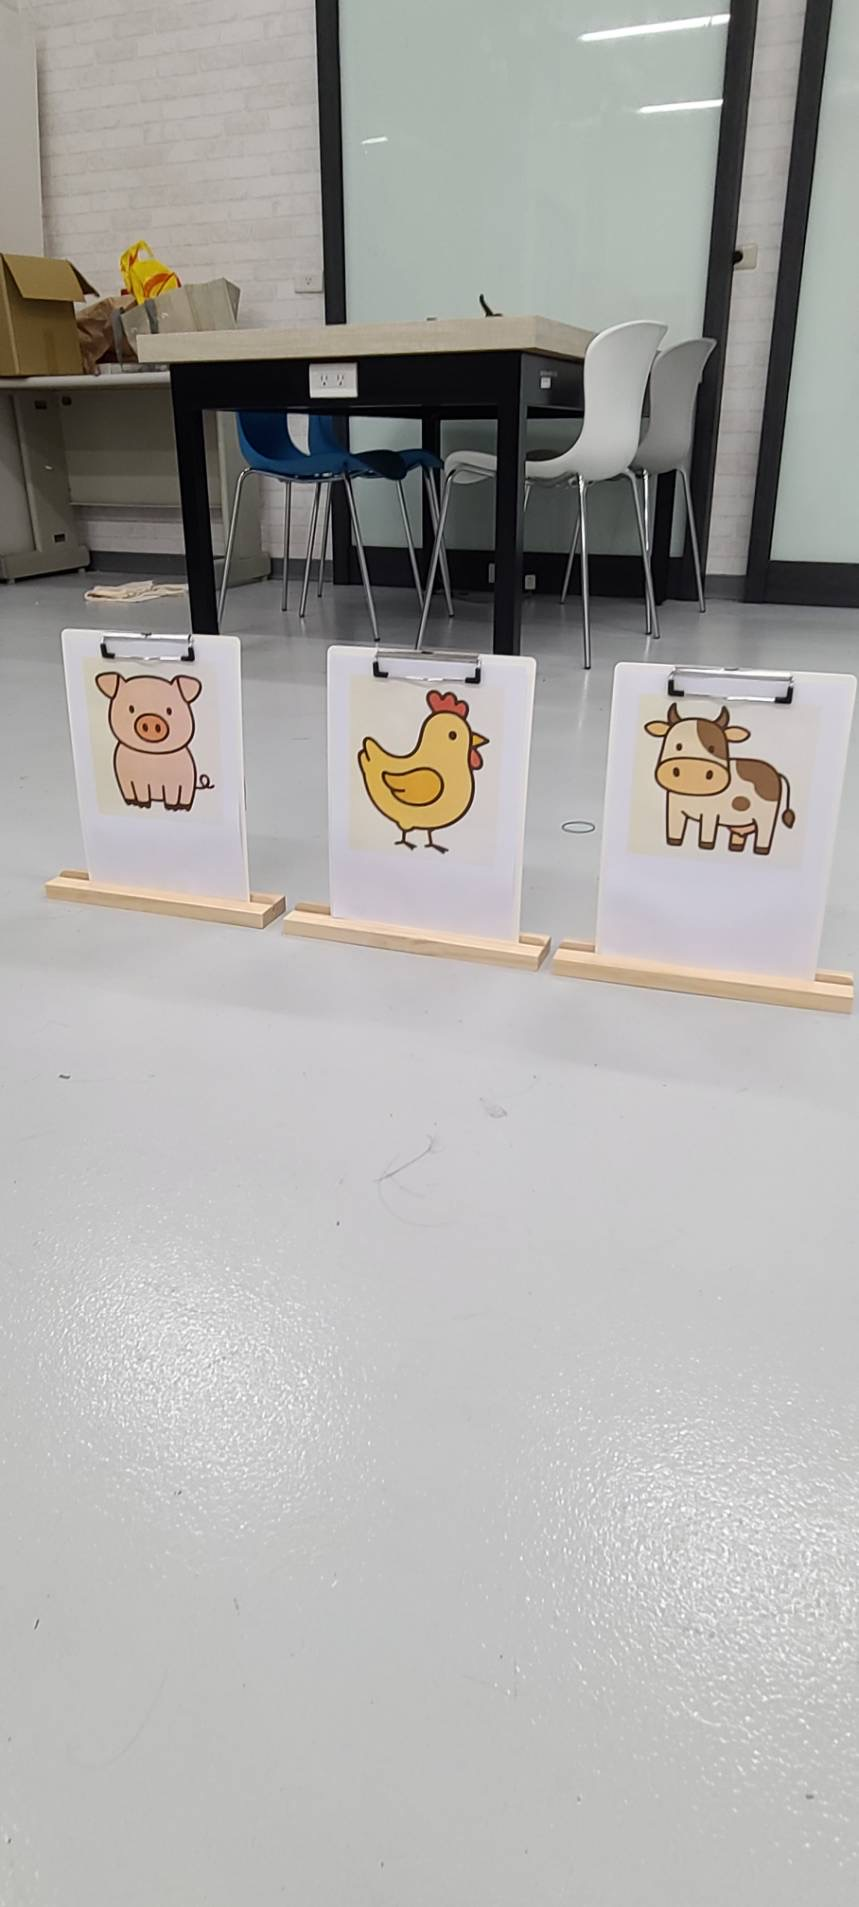pig: (83, 660, 221, 826)
